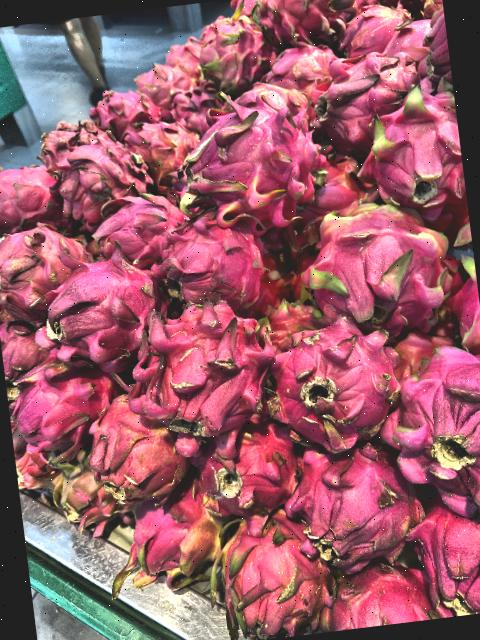buah-naga-belum-matang: (288, 184, 456, 344), (84, 392, 193, 512), (114, 478, 227, 590), (186, 11, 278, 95)
buah-naga-matang: (284, 417, 424, 584), (122, 293, 270, 445), (269, 313, 410, 457), (170, 90, 323, 222), (200, 511, 340, 640), (142, 204, 282, 330), (382, 346, 480, 512), (362, 90, 470, 237), (36, 251, 166, 363), (42, 119, 167, 224), (296, 51, 411, 158), (4, 356, 109, 462), (203, 425, 307, 522), (0, 216, 104, 313), (413, 487, 480, 619), (88, 188, 192, 267), (0, 159, 59, 236)
